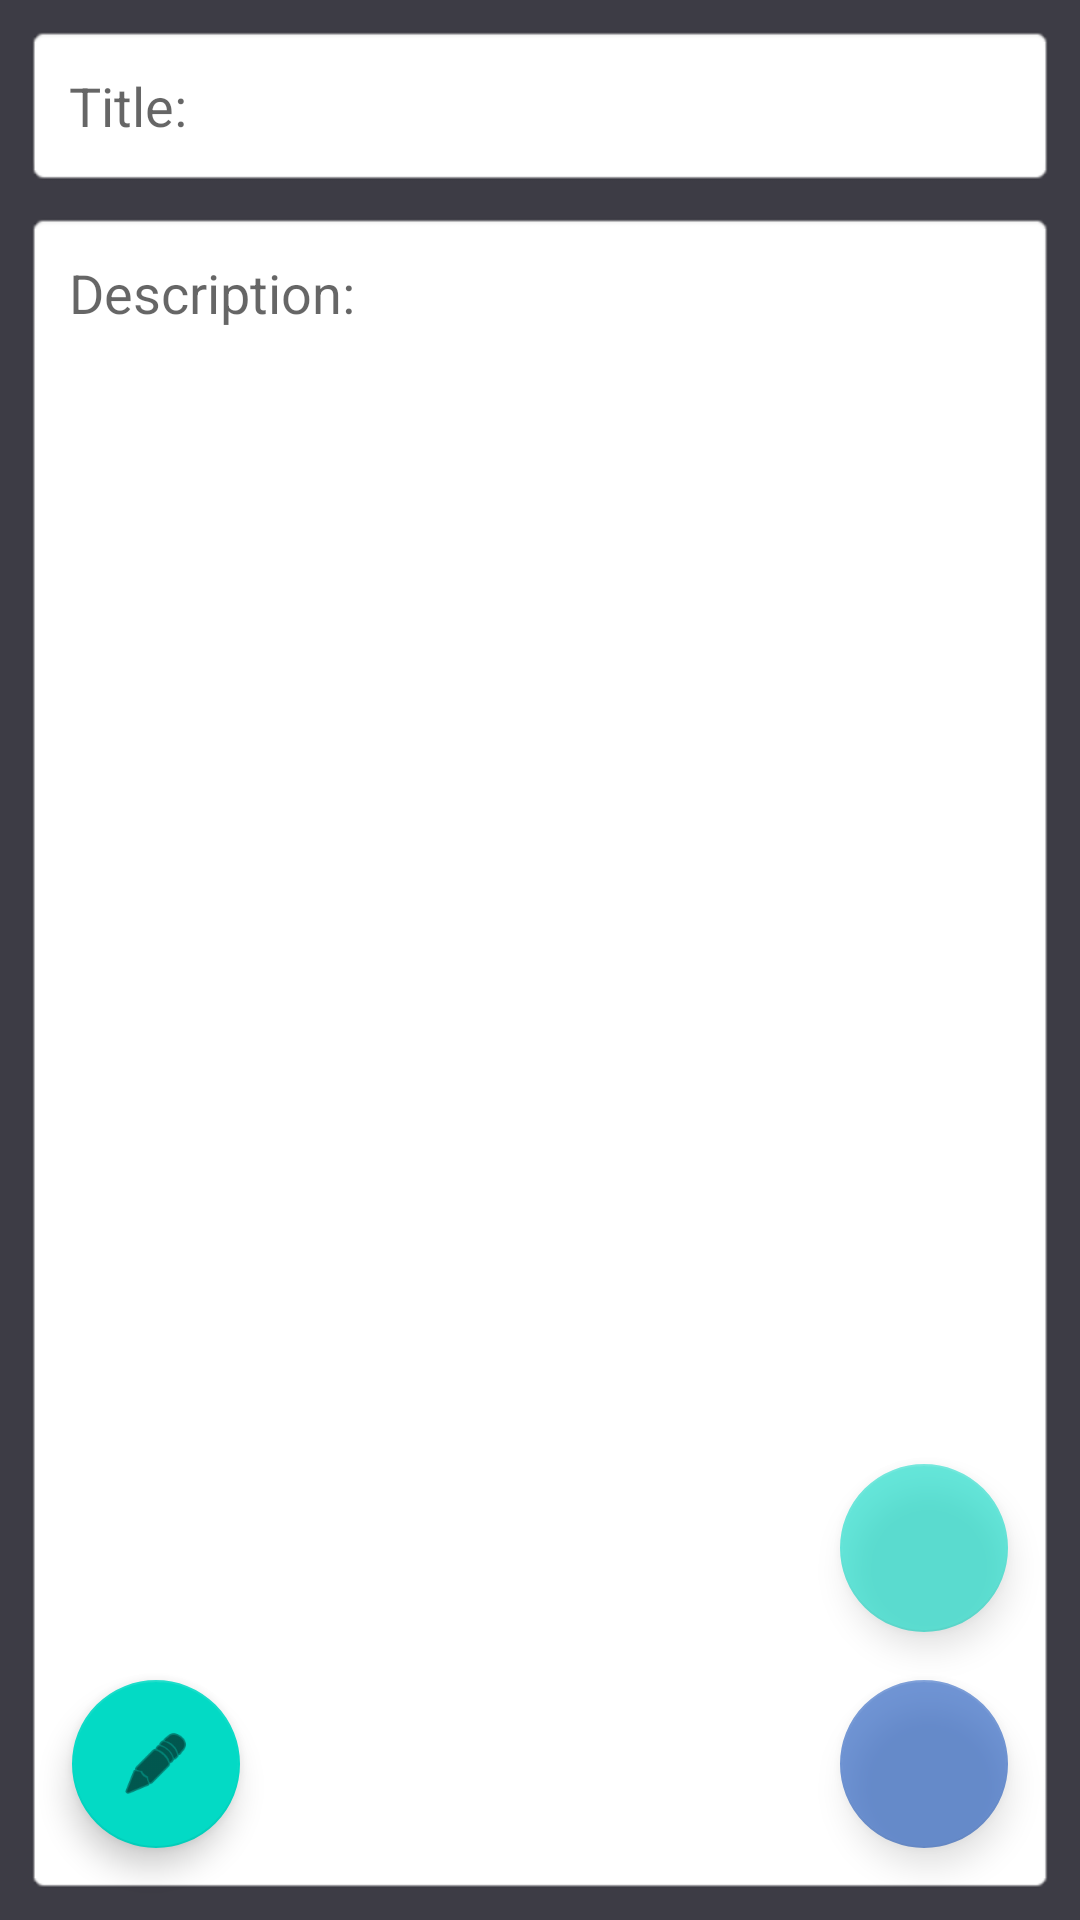

Where icons sit on this 1080x1920 app screen, as (x1, y1, x2, y2):
edit: (72, 1680, 240, 1848)
